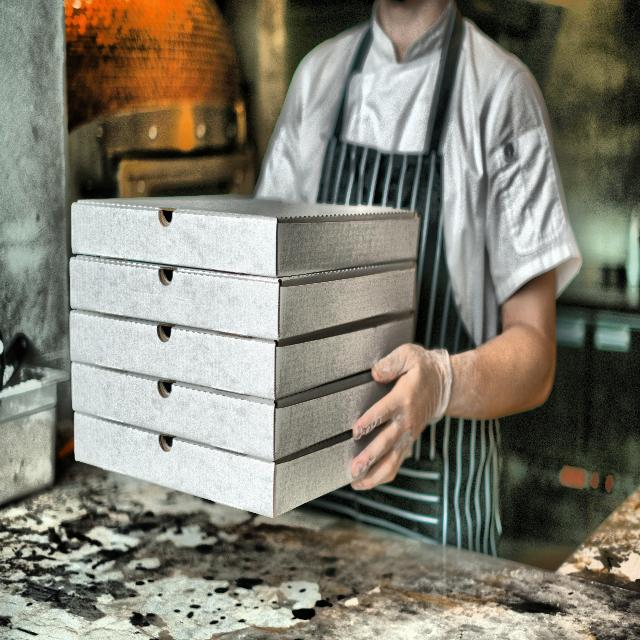gloved: (340, 312, 441, 514)
